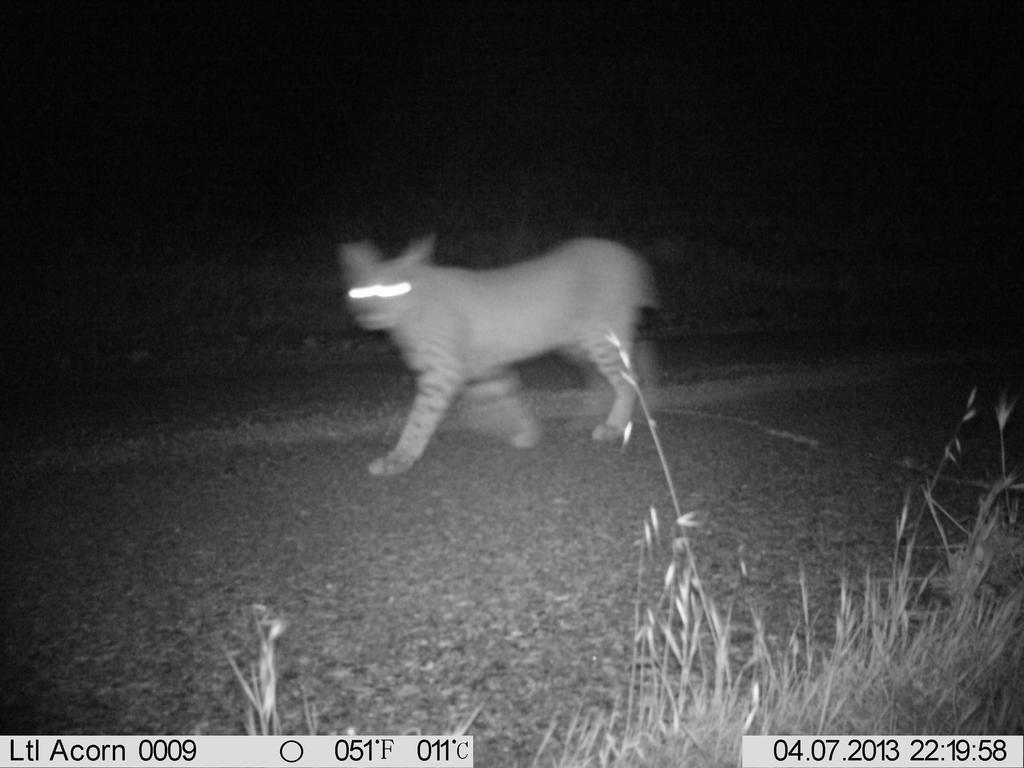bobcat: (338, 229, 658, 482)
